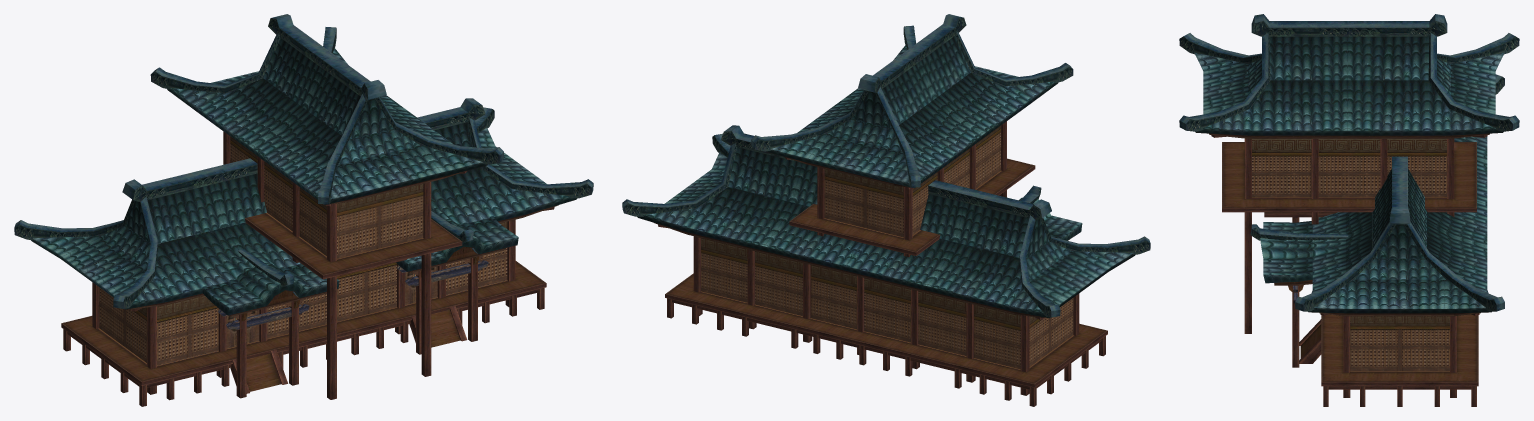
The model's file is environment_Building_luoxiaguan_001_c.FBX.
3 views of the same model, side by side, from view 1: azimuth 30°, elevation 25°; view 2: azimuth 150°, elevation 25°; view 3: azimuth 270°, elevation 25° (orthographic). The views are drawn at different scales.
Visible parts, largest first — view 1: environment_Building_luoxiaguan_001_c; view 2: environment_Building_luoxiaguan_001_c; view 3: environment_Building_luoxiaguan_001_c.
Boxes of the visible parts, x1,y1,x2,y2 form: environment_Building_luoxiaguan_001_c: (14, 14, 593, 406); environment_Building_luoxiaguan_001_c: (622, 14, 1150, 406); environment_Building_luoxiaguan_001_c: (1179, 14, 1519, 406).
Size of the model in its own units: 1728 by 1084 by 1028.
1 material, 1 textured.
